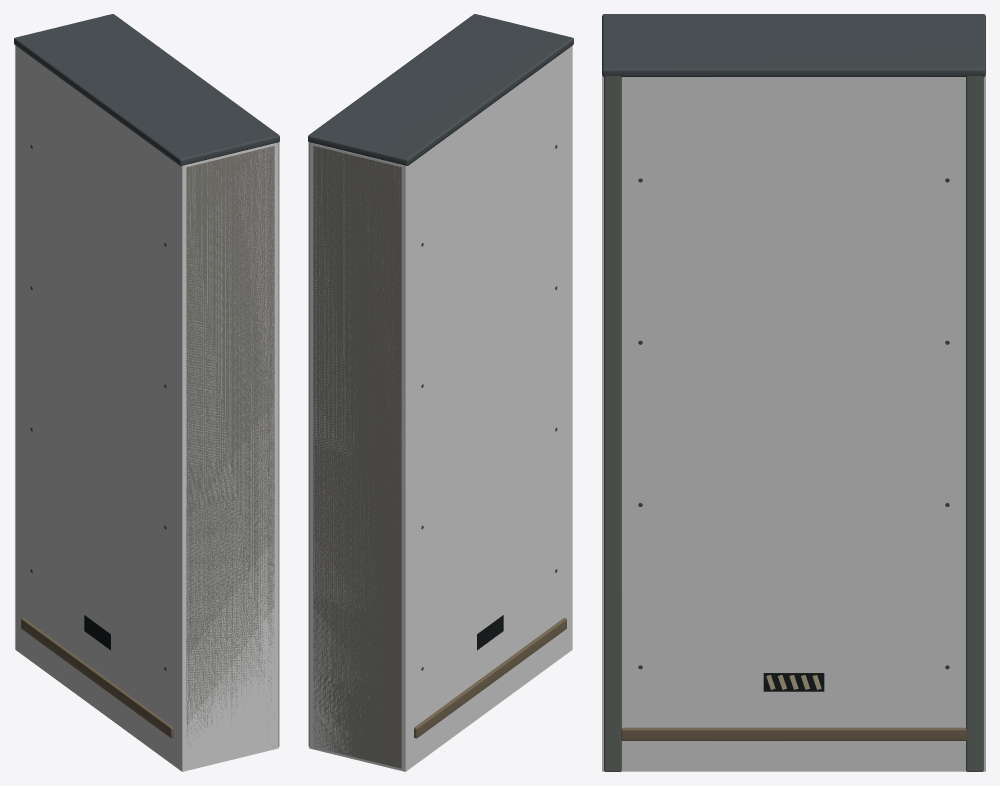
The model's file is m2_security_wall.glb.
3 renders of one model, left to right at view 1: azimuth 30°, elevation 25°; view 2: azimuth 150°, elevation 25°; view 3: azimuth 270°, elevation 25°, orthographic. The views are drawn at different scales.
Parts seen in each view (by area): view 1: COL_m2_security_wall, m2_security_wall_nc7_concrete, m2_security_wall_nc7_alloy, m2_security_wall_nc7_coating, m2_security_wall_nc7_panel; view 2: COL_m2_security_wall, m2_security_wall_nc7_concrete, m2_security_wall_nc7_alloy, m2_security_wall_nc7_coating, m2_security_wall_nc7_panel; view 3: COL_m2_security_wall, m2_security_wall_nc7_panel, m2_security_wall_nc7_alloy, m2_security_wall_nc7_coating, m2_security_wall_nc7_dark.
Part boxes in pixels (x1,y1,x2,y2): COL_m2_security_wall: [15, 45, 278, 771]; m2_security_wall_nc7_concrete: [186, 146, 274, 746]; m2_security_wall_nc7_alloy: [14, 14, 279, 670]; m2_security_wall_nc7_coating: [21, 618, 173, 738]; m2_security_wall_nc7_panel: [278, 142, 279, 746]; COL_m2_security_wall: [309, 45, 572, 771]; m2_security_wall_nc7_concrete: [313, 146, 401, 768]; m2_security_wall_nc7_alloy: [308, 14, 573, 670]; m2_security_wall_nc7_coating: [414, 618, 566, 738]; m2_security_wall_nc7_panel: [308, 142, 309, 746]; COL_m2_security_wall: [602, 75, 985, 771]; m2_security_wall_nc7_panel: [604, 76, 983, 771]; m2_security_wall_nc7_alloy: [602, 14, 985, 669]; m2_security_wall_nc7_coating: [621, 727, 966, 740]; m2_security_wall_nc7_dark: [763, 673, 824, 691].
Size of the model in its own units: 2.12 by 12.14 by 6.
